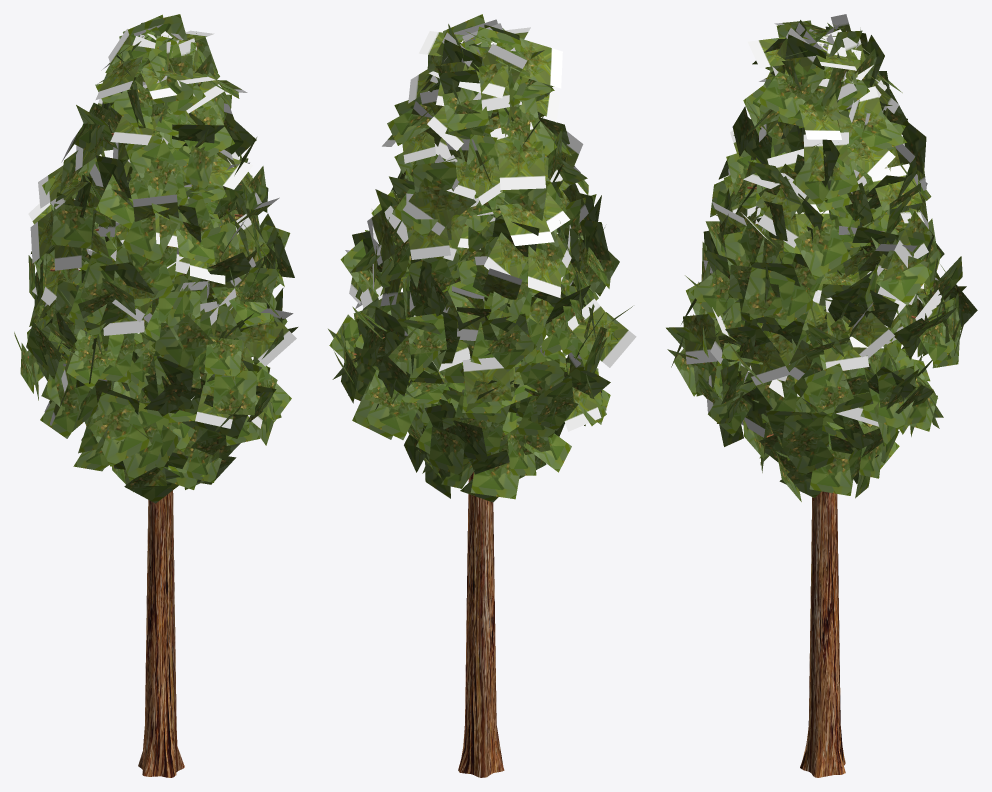
The model's file is California_Redwood_Model_0.obj.
3 renders of one model, left to right at view 1: azimuth 30°, elevation 25°; view 2: azimuth 150°, elevation 25°; view 3: azimuth 270°, elevation 25°, orthographic.
Parts seen in each view (by area): view 1: Foliage__leafcard, Bark; view 2: Foliage__leafcard, Bark; view 3: Foliage__leafcard, Bark.
Part boxes in pixels (bbox=[...]): Foliage__leafcard: bbox=[14, 14, 297, 503]; Bark: bbox=[27, 133, 242, 777]; Foliage__leafcard: bbox=[328, 14, 636, 502]; Bark: bbox=[353, 230, 581, 777]; Foliage__leafcard: bbox=[666, 14, 977, 501]; Bark: bbox=[747, 186, 929, 777].
Size of the model in its own units: 22.77 by 65 by 24.6.
2 materials, 2 textured.
